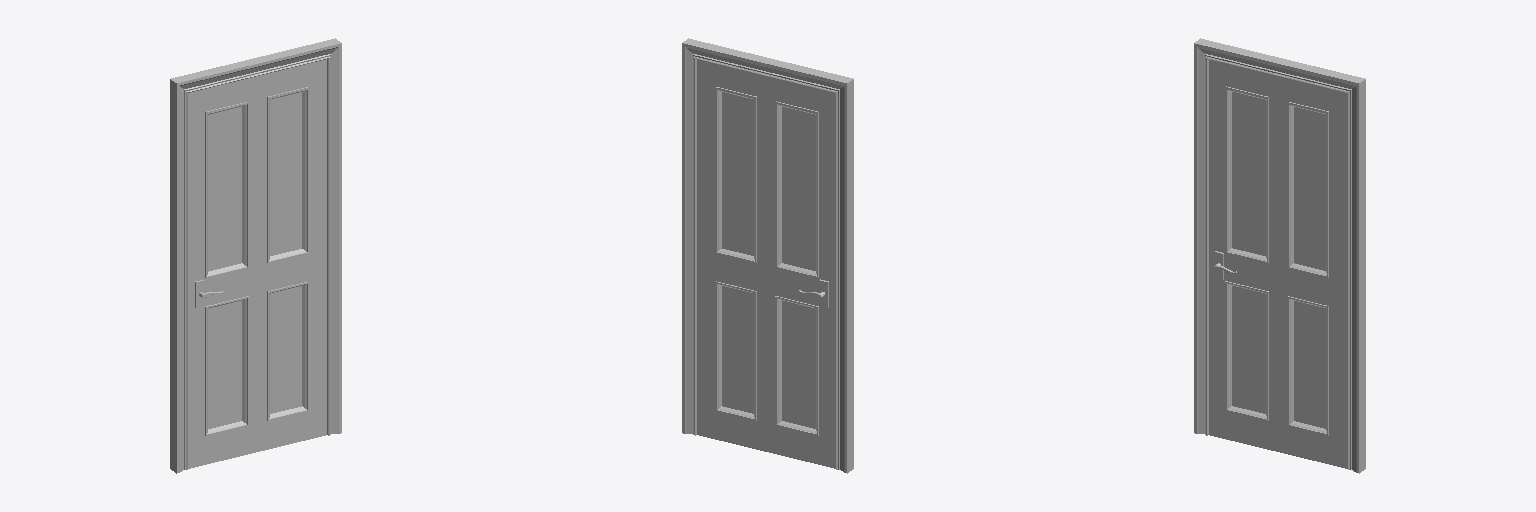
The model's file is Door2.obj.
The picture shows the model from 3 angles: view 1: azimuth 30°, elevation 25°; view 2: azimuth 150°, elevation 25°; view 3: azimuth 330°, elevation 25°; orthographic projection.
Parts seen in each view (by area): view 1: door; view 2: door; view 3: door.
Part boxes in pixels (x1,y1,x2,y2): door: (170,38,341,473); door: (682,38,853,473); door: (1194,38,1365,473).
Bounding box in the file's own units: 0.8839 × 1.99 × 0.124.